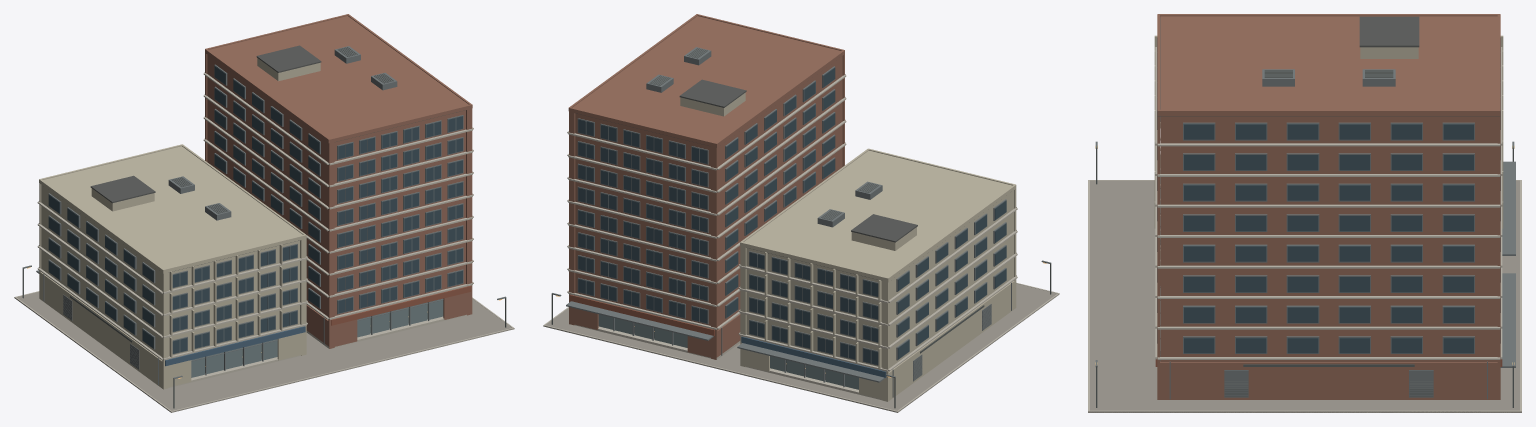
File: block-2-2.glb
The picture shows the model from 3 angles, left to right: view 1: azimuth 30°, elevation 25°; view 2: azimuth 150°, elevation 25°; view 3: azimuth 270°, elevation 25°; orthographic projection. The views are drawn at different scales.
Parts seen in each view (by area): view 1: block-2-2:brick, block-2-2:stucco, block-2-2:glass, block-2-2:aluminium, block-2-2:concrete, block-2-2:paversGrey, block-2-2:shopGlass, block-2-2:roof, block-2-2:darkSteel, block-2-2:blueTrim, block-2-2:oxideTrim; view 2: block-2-2:brick, block-2-2:stucco, block-2-2:glass, block-2-2:aluminium, block-2-2:concrete, block-2-2:paversGrey, block-2-2:roof, block-2-2:shopGlass, block-2-2:darkSteel, block-2-2:blueTrim, block-2-2:oxideTrim; view 3: block-2-2:brick, block-2-2:glass, block-2-2:paversGrey, block-2-2:aluminium, block-2-2:concrete, block-2-2:roof, block-2-2:darkSteel, block-2-2:stucco.
Boxes of the visible parts, x1,y1,x2,y2 form: block-2-2:brick: (205, 14, 472, 348); block-2-2:stucco: (39, 58, 320, 389); block-2-2:glass: (48, 66, 462, 353); block-2-2:aluminium: (22, 46, 506, 385); block-2-2:concrete: (14, 72, 514, 412); block-2-2:paversGrey: (14, 292, 514, 412); block-2-2:shopGlass: (191, 298, 443, 377); block-2-2:roof: (90, 45, 464, 271); block-2-2:darkSteel: (22, 47, 506, 408); block-2-2:blueTrim: (165, 326, 305, 366); block-2-2:oxideTrim: (331, 285, 471, 325); block-2-2:brick: (568, 14, 844, 359); block-2-2:stucco: (680, 92, 1016, 401); block-2-2:glass: (578, 68, 1006, 364); block-2-2:aluminium: (551, 47, 1050, 397); block-2-2:concrete: (543, 74, 1059, 412); block-2-2:paversGrey: (543, 283, 1058, 412); block-2-2:roof: (576, 79, 917, 279); block-2-2:shopGlass: (598, 314, 858, 389); block-2-2:darkSteel: (551, 48, 1051, 408); block-2-2:blueTrim: (741, 336, 886, 377); block-2-2:oxideTrim: (570, 294, 714, 335); block-2-2:brick: (1157, 14, 1500, 399); block-2-2:glass: (1184, 124, 1473, 353); block-2-2:paversGrey: (1088, 181, 1521, 412); block-2-2:aluminium: (1095, 37, 1515, 399); block-2-2:concrete: (1088, 47, 1521, 412); block-2-2:roof: (1158, 16, 1499, 121); block-2-2:darkSteel: (1096, 70, 1513, 407); block-2-2:stucco: (1154, 35, 1503, 265).
Bounding box in the file's own units: 48 × 29.31 × 38.
